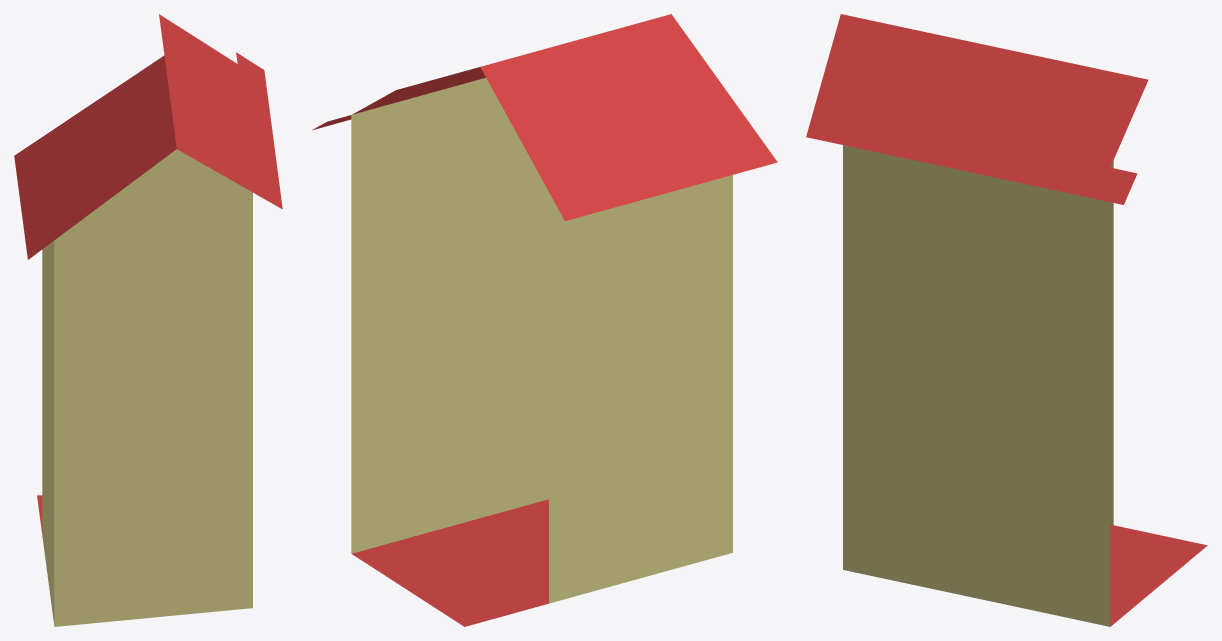
3 views of the same model, side by side, from view 1: azimuth 30°, elevation 25°; view 2: azimuth 150°, elevation 25°; view 3: azimuth 270°, elevation 25° (orthographic). The views are drawn at different scales.
Bounding box in the file's own units: 7.02 × 6.58 × 9.3.
